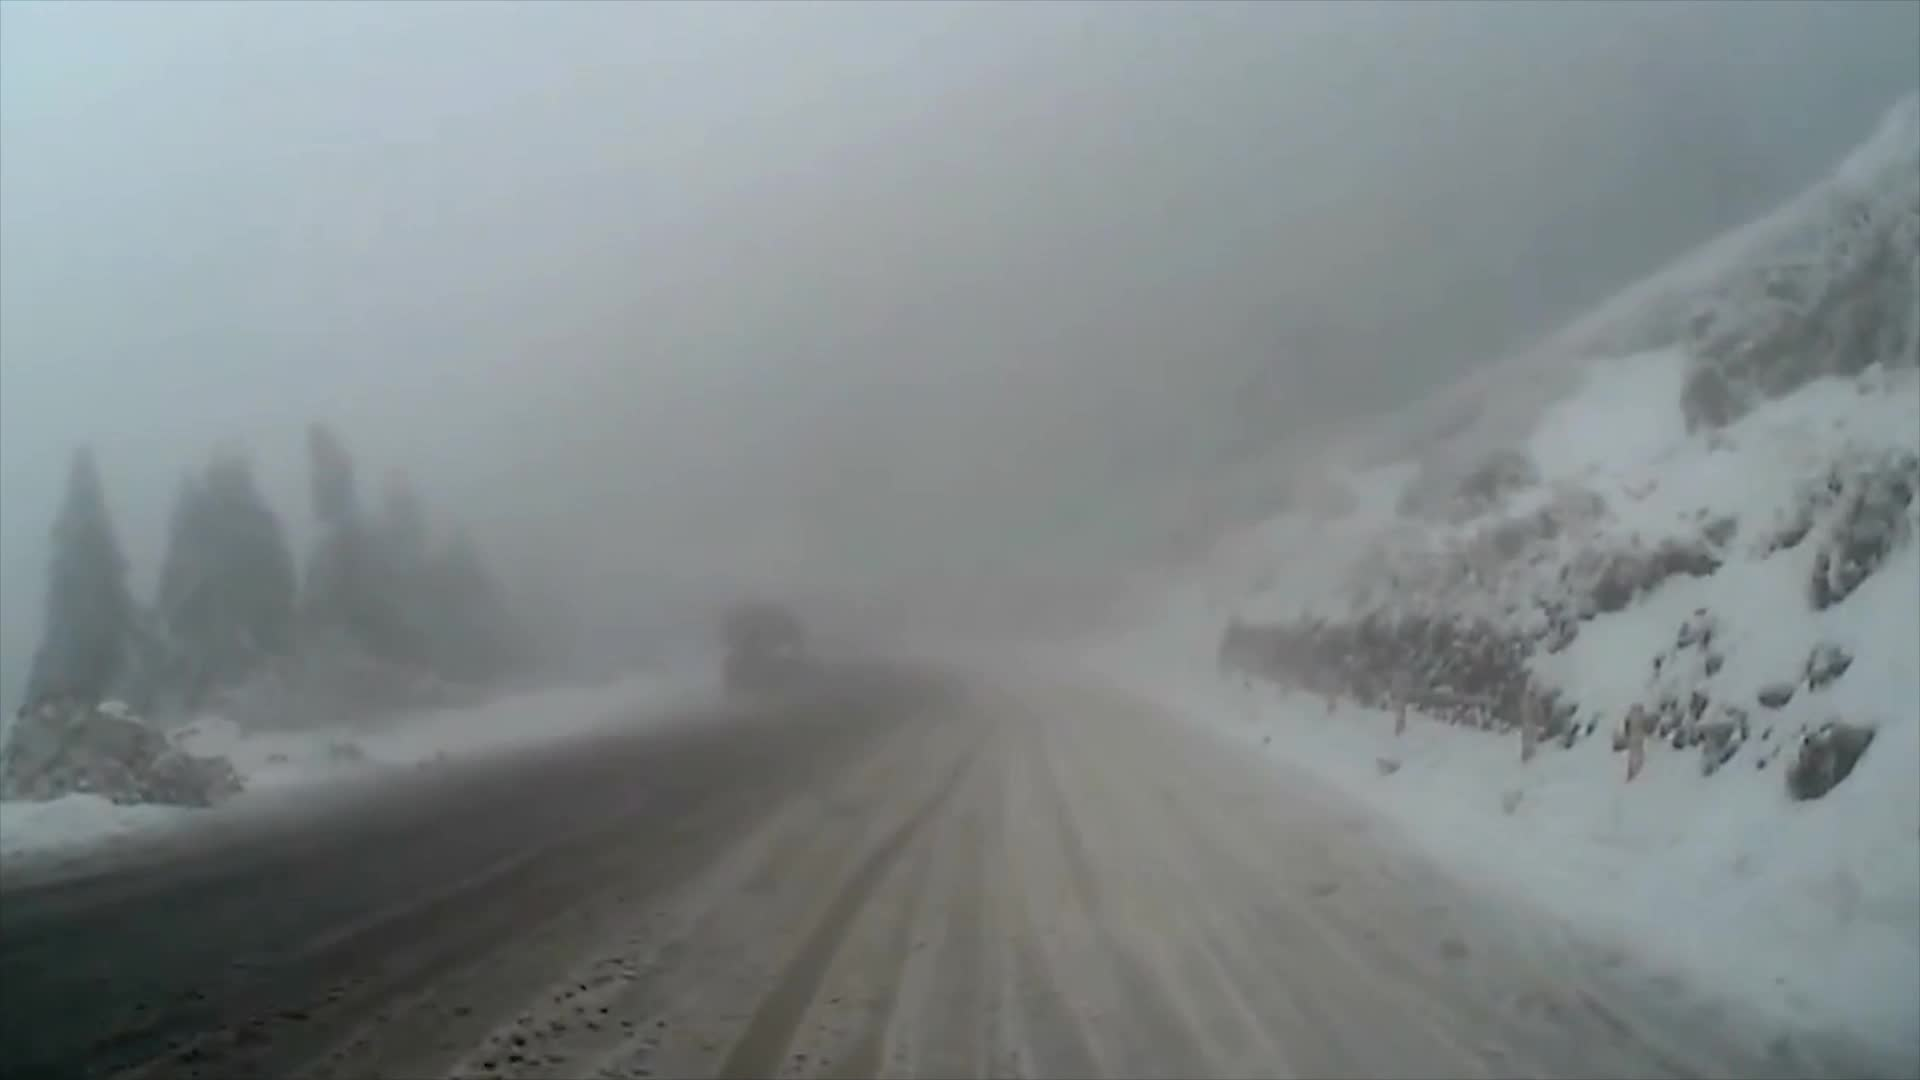vehicle: (717, 603, 812, 695)
